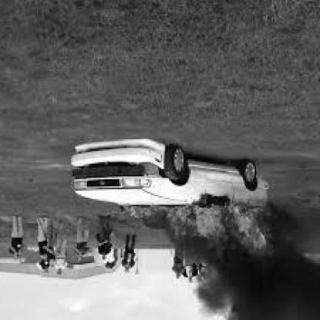Smoke: (181, 246, 320, 320)
